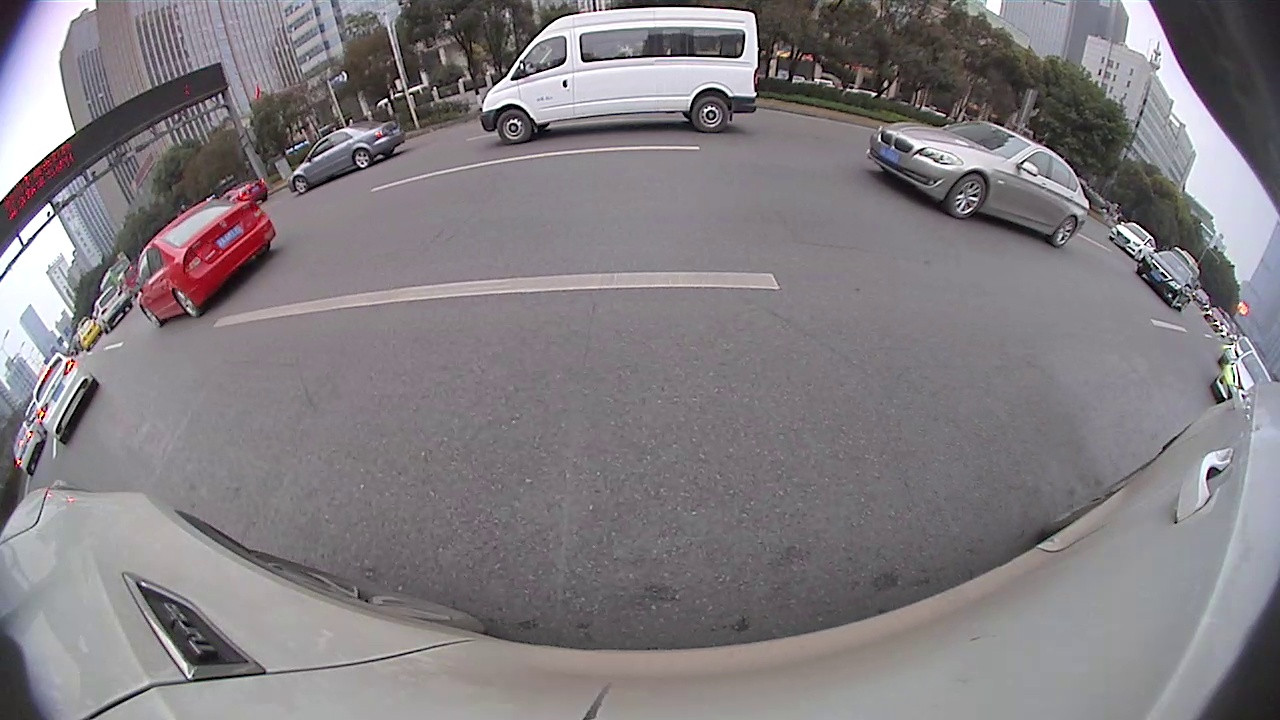car: (482, 9, 758, 141), (872, 122, 1090, 246), (136, 198, 276, 326), (289, 123, 404, 195), (30, 353, 101, 443), (1136, 250, 1196, 309), (1211, 353, 1272, 403)
front: (947, 172, 988, 219), (496, 108, 532, 144), (291, 175, 311, 193)
rear: (690, 96, 731, 135), (1054, 213, 1079, 247), (171, 287, 199, 316), (352, 147, 373, 169)
